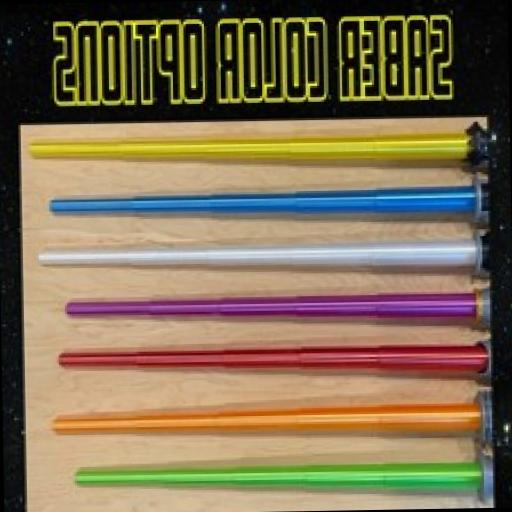lightsaber: (32, 129, 488, 201), (64, 446, 491, 506), (40, 232, 490, 286), (51, 292, 491, 344), (61, 394, 492, 439), (45, 192, 487, 232)
sith saber: (54, 335, 496, 397)
